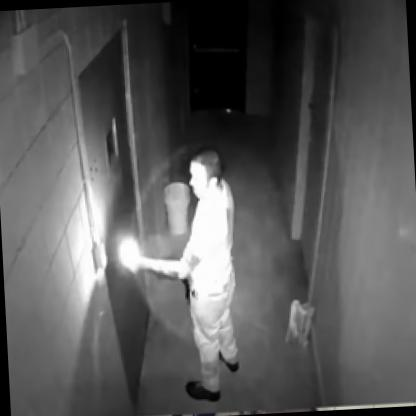Human Body: (124, 143, 250, 408)
